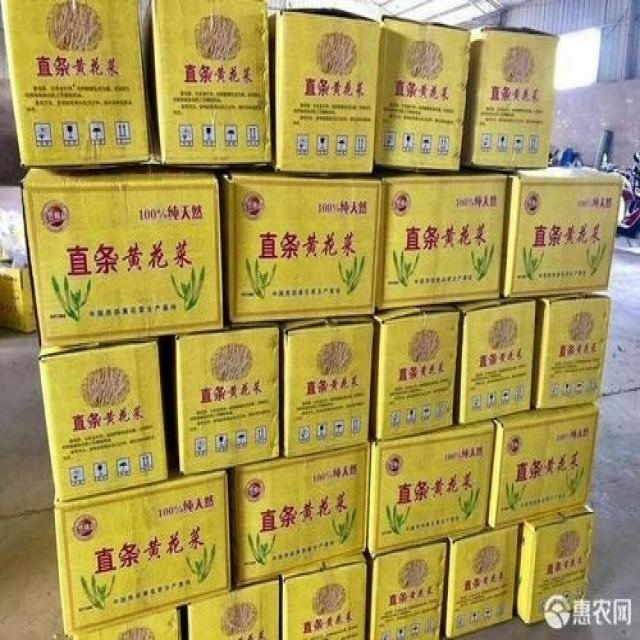Carton: (189, 326, 372, 638), (371, 297, 536, 551), (20, 176, 224, 348), (59, 478, 228, 635), (228, 176, 375, 323), (38, 341, 165, 500), (152, 0, 271, 166), (381, 176, 507, 309), (276, 12, 378, 164), (180, 331, 284, 476), (376, 17, 466, 164), (504, 181, 617, 295), (489, 406, 596, 526), (471, 36, 559, 162), (445, 526, 516, 635), (525, 509, 589, 623), (541, 300, 607, 410), (282, 561, 365, 637), (374, 548, 444, 638)
